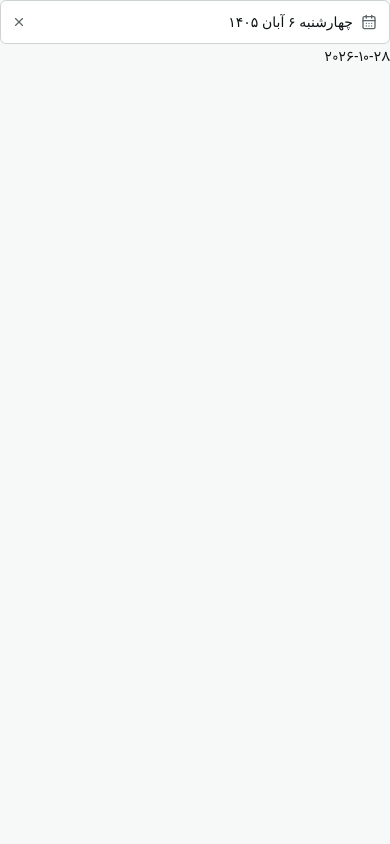
Test case: date inputs on the Jalali calendar › writes the picked Jalali day back as yyyy-MM-dd
This screenshot has width=390, height=844.
Click the button with id "due": {"x": 243, "y": 22} [0,0,389,44]
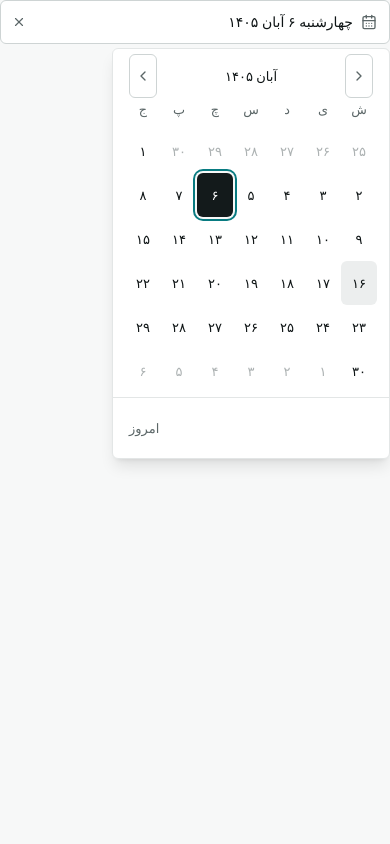
Click the button named "یک‌شنبه ۱۰ آبان ۱۴۰۵": {"x": 323, "y": 239} [305,217,341,261]
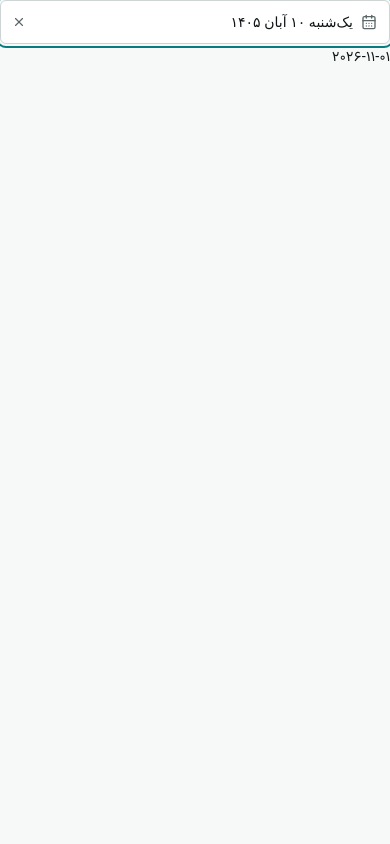
Check: the text named "مقدار" reads "2026-11-01", box [332,46,389,65]
